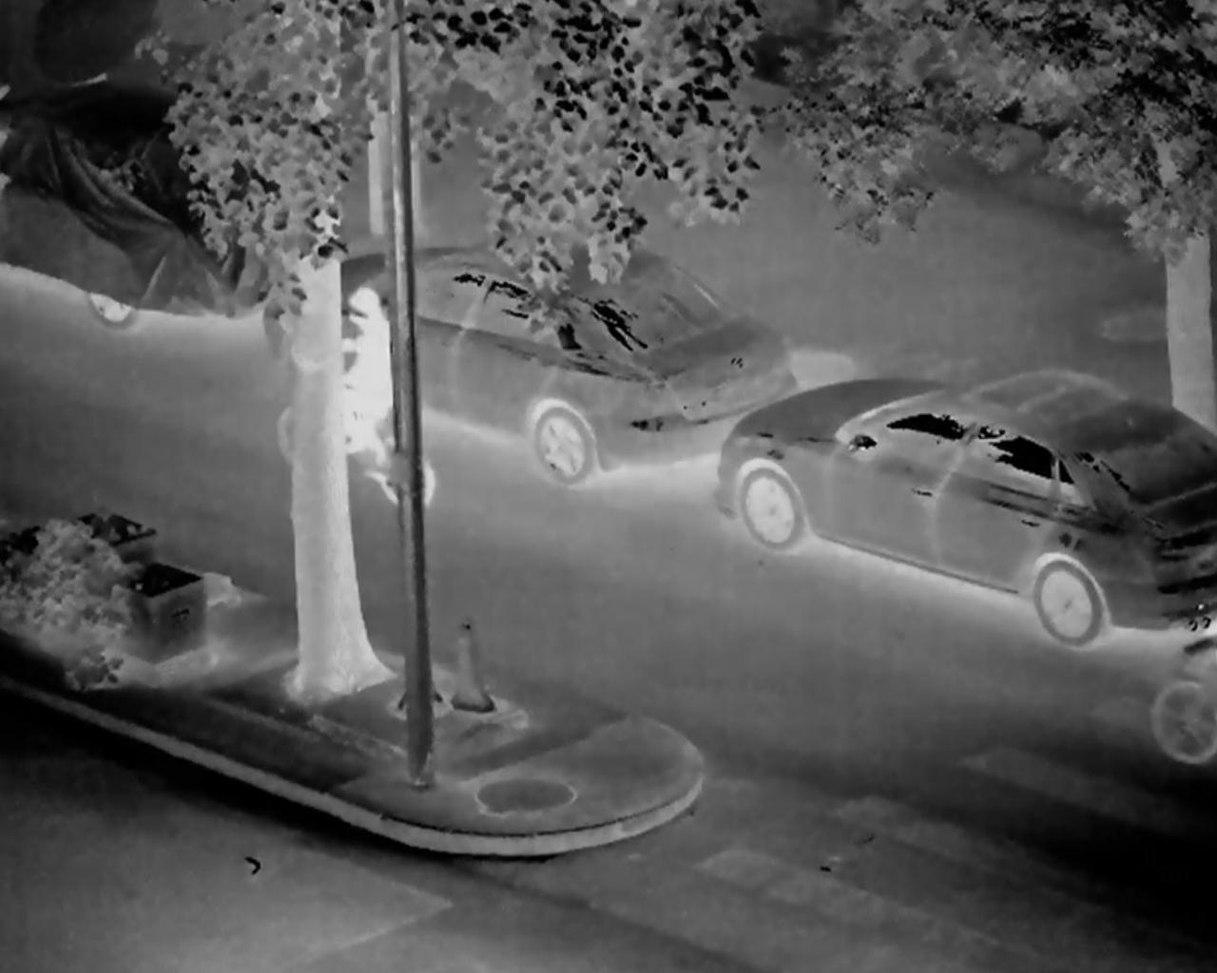person: (312, 290, 415, 465)
